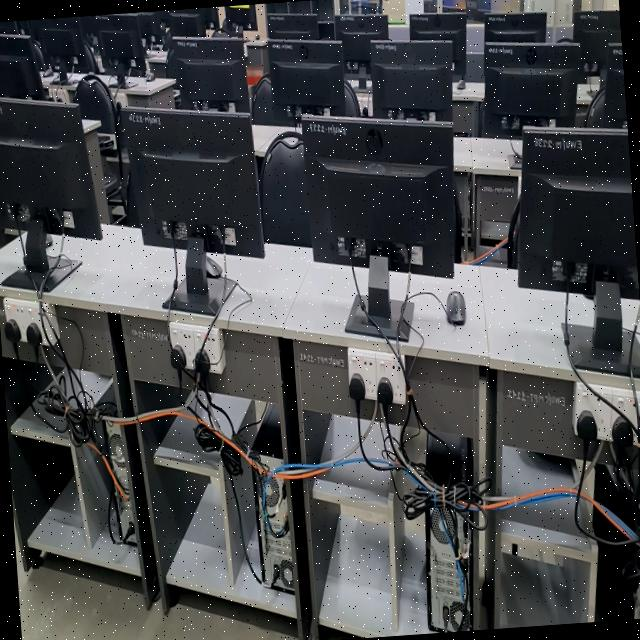Chair: (258, 131, 312, 246), (249, 73, 312, 125), (73, 74, 116, 134), (249, 73, 283, 125), (345, 79, 361, 116)
Cpu: (428, 507, 471, 631), (256, 476, 294, 593), (108, 429, 129, 494), (115, 493, 135, 543), (108, 427, 121, 450)
Monitor: (302, 117, 457, 277), (514, 128, 639, 298), (123, 108, 264, 257), (0, 98, 102, 239), (480, 42, 579, 138), (267, 38, 353, 125), (370, 41, 452, 120), (168, 37, 249, 112), (410, 13, 466, 78), (32, 16, 87, 80), (96, 12, 146, 74), (0, 33, 46, 99), (335, 13, 388, 70), (573, 10, 621, 68), (484, 13, 546, 42), (592, 302, 621, 351), (267, 12, 319, 39), (169, 11, 205, 36), (226, 4, 256, 28)
Mouse: (446, 291, 466, 325), (146, 71, 155, 80)
